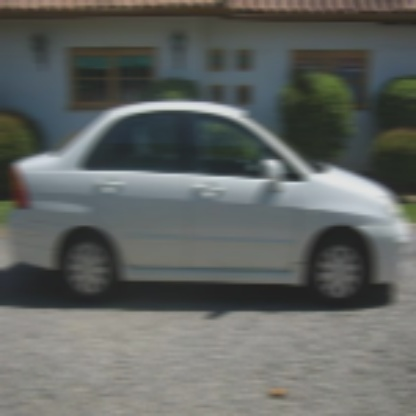Vehicle: (5, 100, 412, 304)
